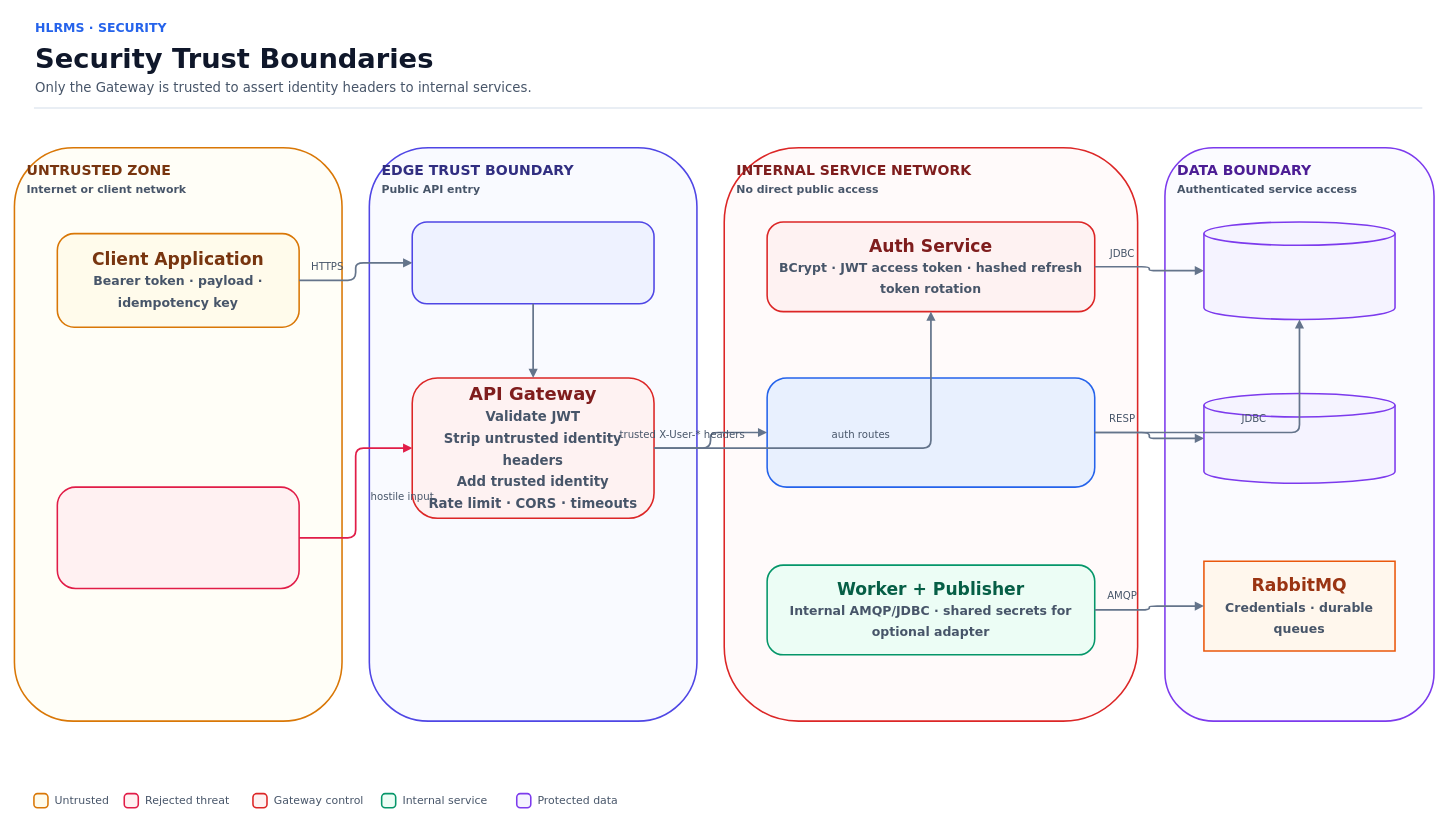
The diagram is 1448 pixels wide and 825 high, and some of its shapes have lost their labels. The centre of each missing label's shape, as x and y in pixels:
Gateway Load Balancer Single published port: pixel 532 262
PostgreSQL Separate logical databases: pixel 1299 270
Redis Password · separate DB indexes: pixel 1299 438
Request Service Trusted headers · ownership isolation · USER / ADMIN RBAC: pixel 930 432
Untrusted Input Forged X-User-* headers · replay · burst traffic: pixel 178 537
